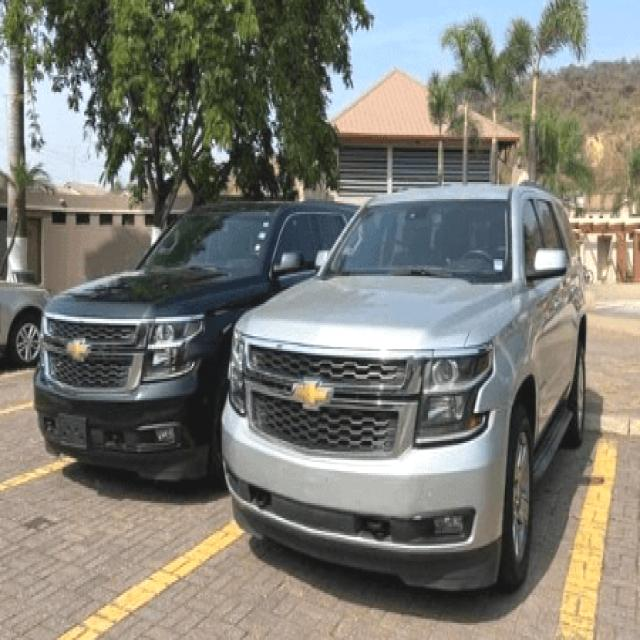SUV: (223, 185, 588, 607), (34, 196, 360, 484)
